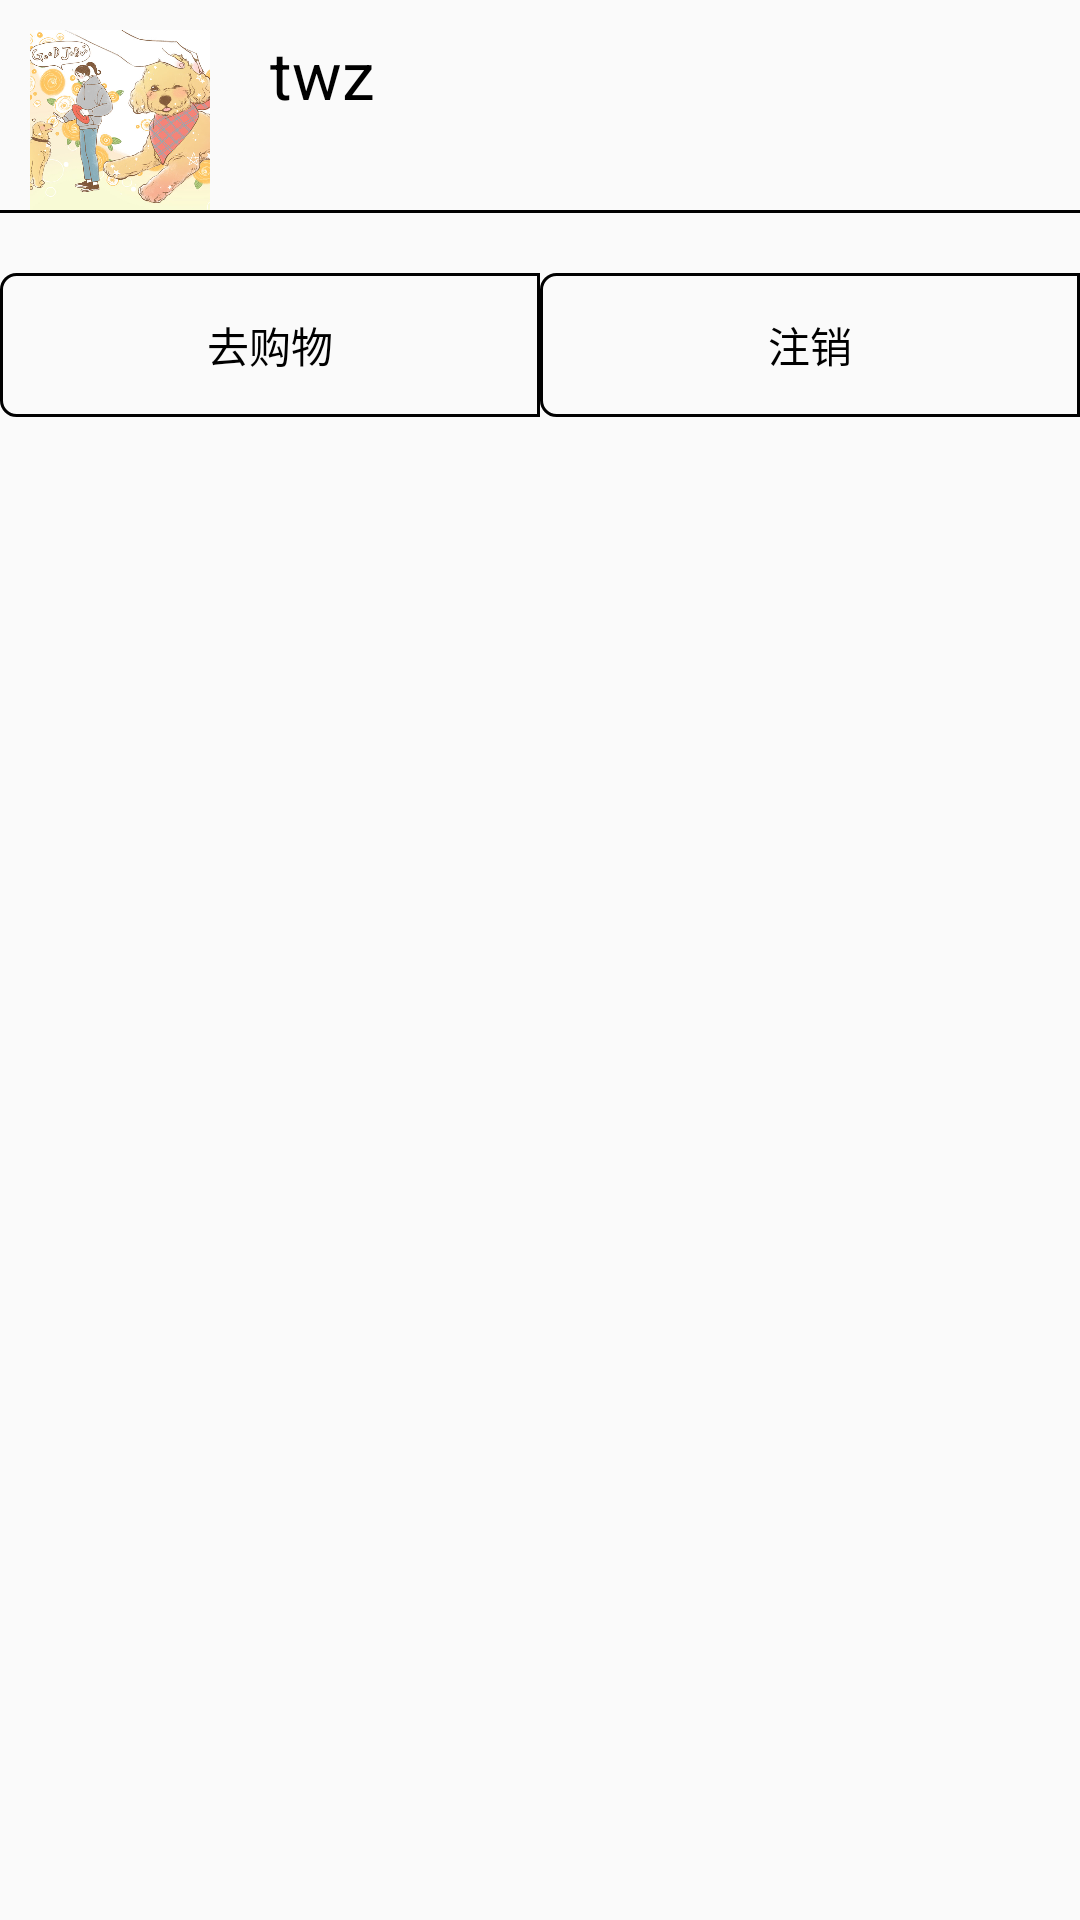

Icons on this 1080×1920 Android screen, each with the point to tap as (x=x, y=y):
touxiang: (x=120, y=120)
